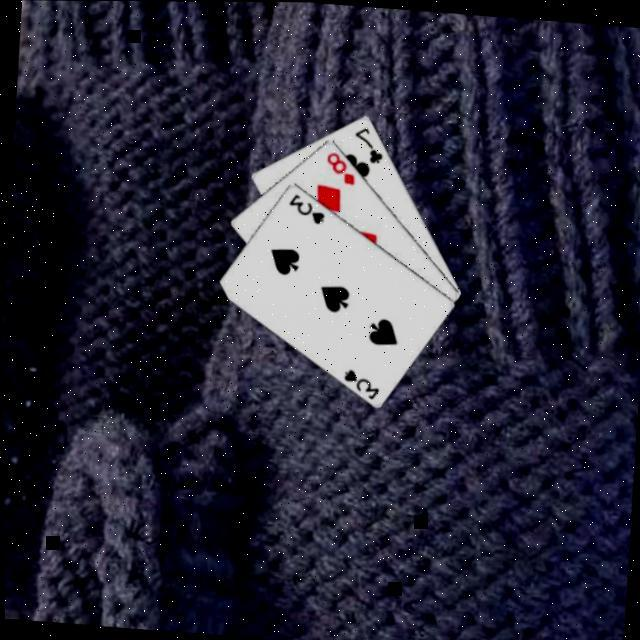3S: (282, 187, 326, 225), (338, 362, 382, 399)
7C: (348, 120, 386, 164)
8D: (321, 146, 357, 184)
